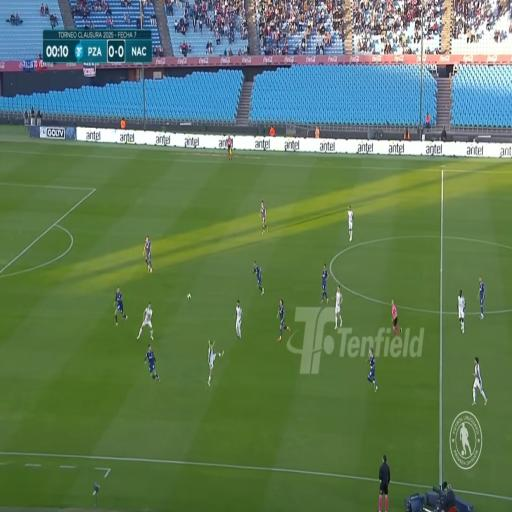Ball: (187, 292, 192, 301)
Player: (145, 342, 162, 383), (474, 356, 486, 407), (366, 349, 380, 392), (138, 303, 153, 341), (477, 270, 487, 321), (456, 287, 467, 332), (233, 298, 244, 342), (206, 338, 216, 383), (114, 282, 124, 326), (277, 298, 287, 342), (346, 205, 356, 248), (145, 232, 154, 274), (253, 259, 263, 295), (259, 199, 268, 239), (336, 284, 342, 327), (322, 260, 328, 301)
Referee: (388, 300, 402, 338), (226, 132, 234, 163)
